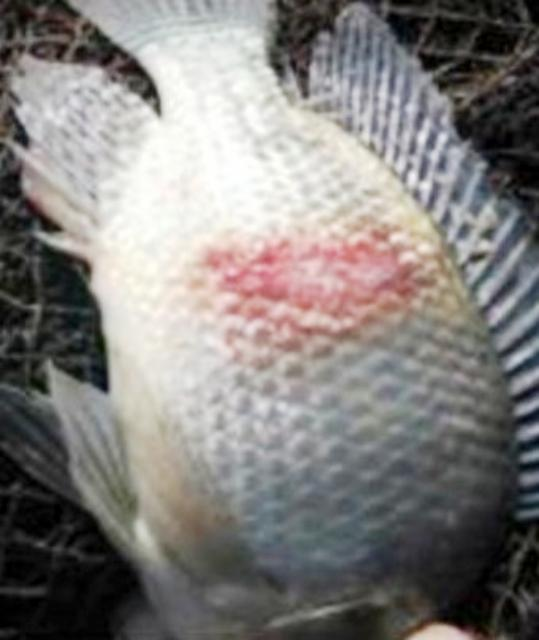Tilapia Lake Virus -TiLV-: (10, 0, 538, 638)
